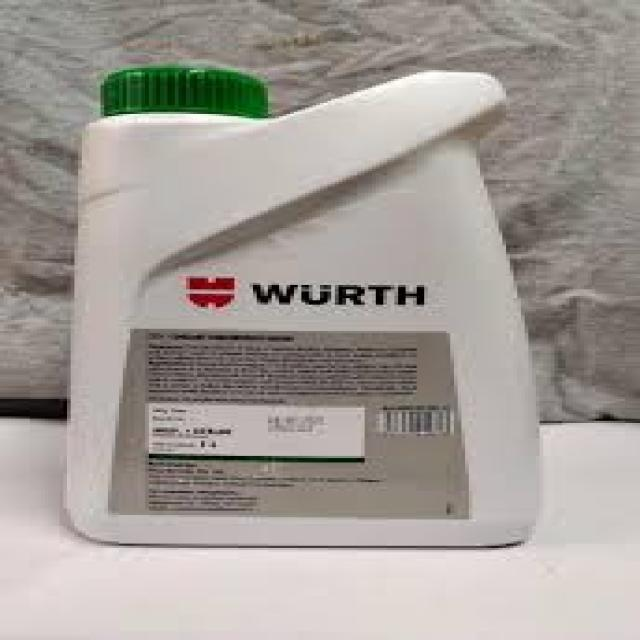coolant: (70, 63, 555, 559)
